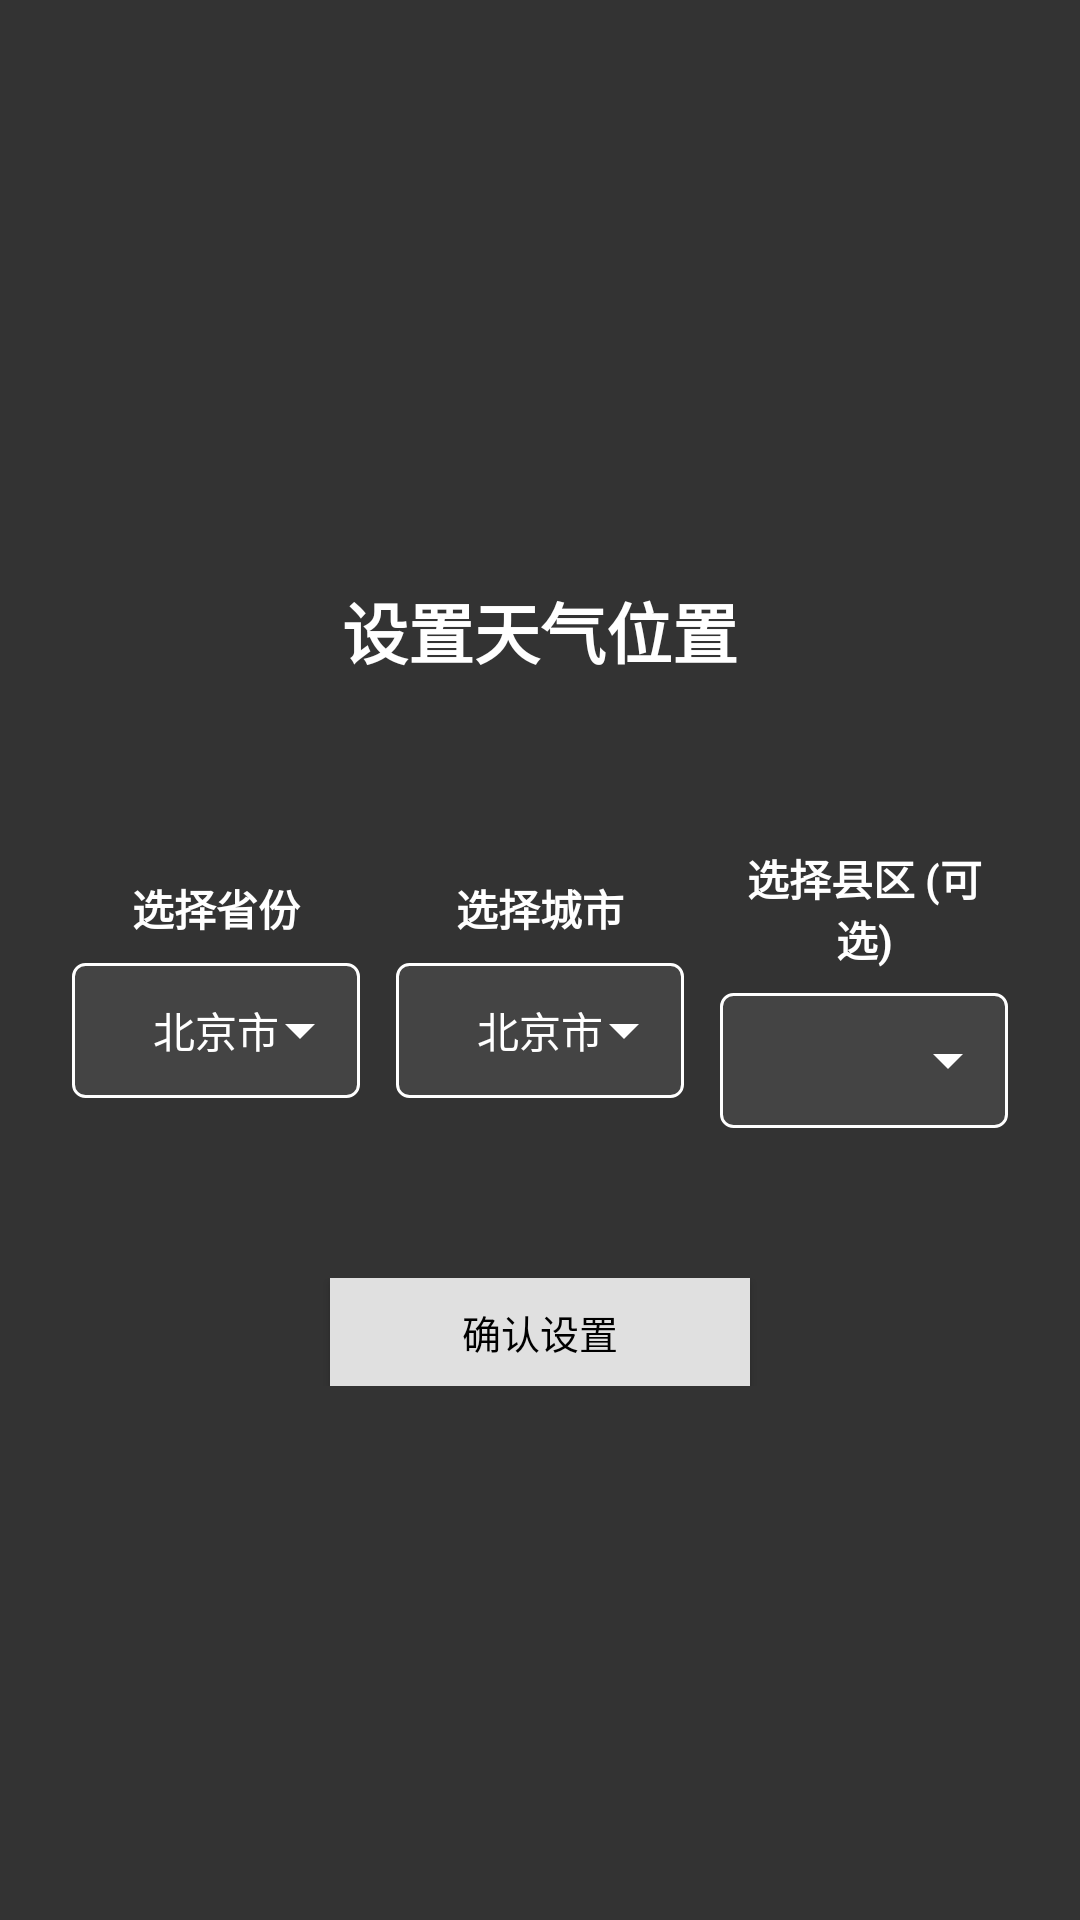

Where to tap for icons on this 1080 x 1920 app screen, as point (x, y):
下拉箭头: point (300, 1031), point (624, 1031), point (948, 1061)
